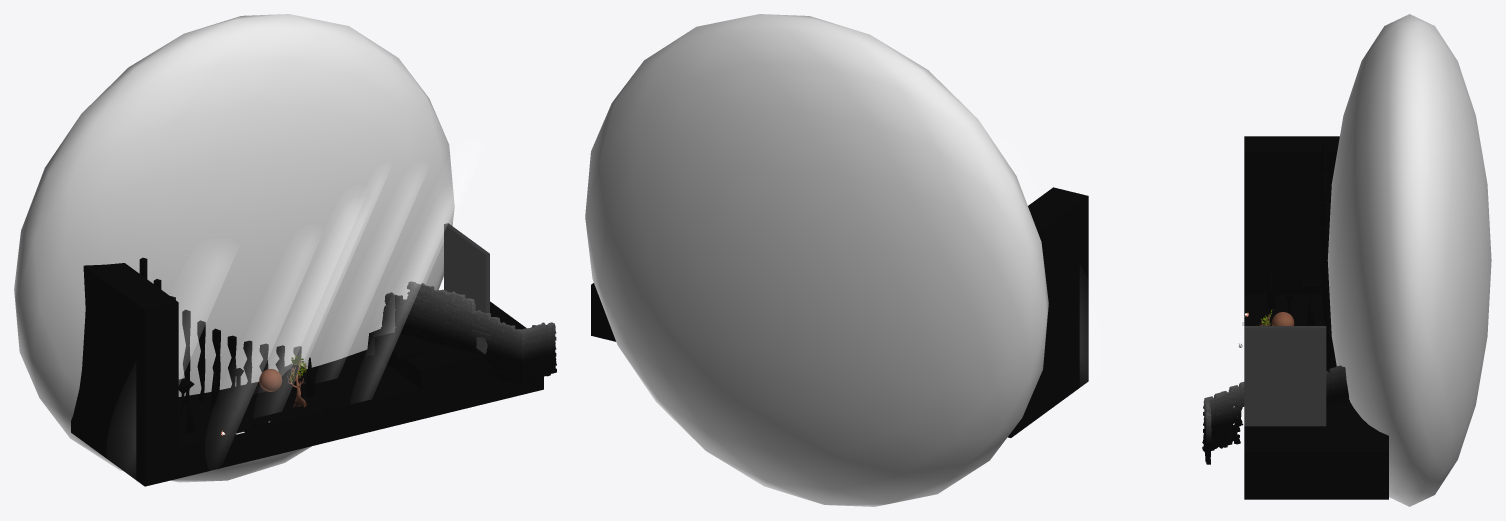
Rendered from level_02.glb.
3 views of the same model, side by side, from view 1: azimuth 30°, elevation 25°; view 2: azimuth 150°, elevation 25°; view 3: azimuth 270°, elevation 25° (orthographic). The views are drawn at different scales.
Visible parts, largest first — view 1: glow.002, ground.003, light-ray.004, SM_Bld_Ruins_Wall_01.001, goal_sensor.001, Pole.002; view 2: glow.002, ground.003; view 3: glow.002, ground.003, goal_sensor.001, SM_Bld_Ruins_Wall_01.001, Pole.002.
Boxes of the visible parts, box(x1,y1,x2,y2) form: glow.002: box(14, 14, 454, 482); ground.003: box(71, 263, 543, 486); light-ray.004: box(179, 150, 478, 432); SM_Bld_Ruins_Wall_01.001: box(381, 281, 556, 384); goal_sensor.001: box(444, 223, 489, 354); Pole.002: box(139, 257, 301, 405); glow.002: box(585, 14, 1048, 506); ground.003: box(591, 187, 1088, 437); glow.002: box(1327, 14, 1491, 506); ground.003: box(1244, 136, 1388, 499); goal_sensor.001: box(1244, 326, 1326, 426); SM_Bld_Ruins_Wall_01.001: box(1202, 365, 1349, 464); Pole.002: box(1321, 142, 1336, 370).
Bounding box in the file's own units: 116 × 104 × 60.76.
8 materials, 8 textured.
